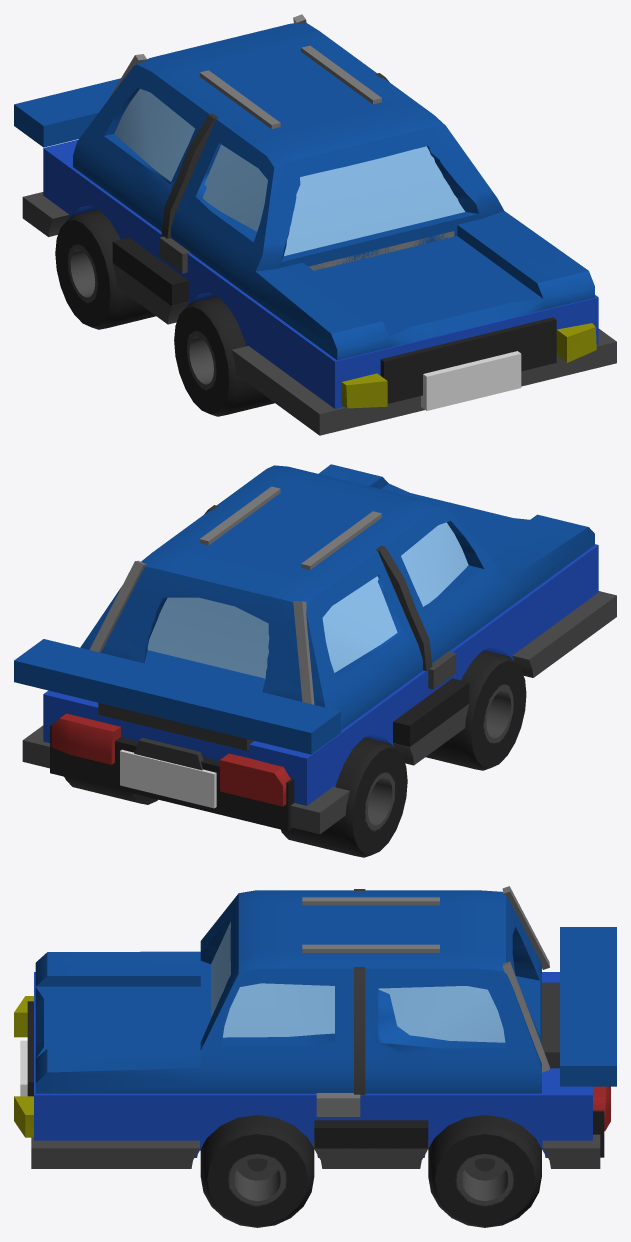
File: car2.obj
3 views of the same model, one above another, from view 1: azimuth 30°, elevation 25°; view 2: azimuth 150°, elevation 25°; view 3: azimuth 270°, elevation 25° (orthographic). The views are drawn at different scales.
Visible parts, largest first — view 1: group1 polySurface9, group1 pCube21, group1 polySurface1, group1 polySurface3, group1 pCube25, group1 pPipe5, group1 pPipe7, group1 pCube22, group1 pCube8, group1 pCube13, group1 pCube29, group1 pCube41 (+7 smaller); view 2: group1 polySurface9, group1 polySurface1, group1 pCube22, group1 pCube21, group1 polySurface3, group1 pPipe7, group1 pPipe5, group1 pCube38, group1 pCube33, group1 pCube42, group1 pCube13, group1 pCube39 (+11 smaller); view 3: group1 polySurface9, group1 polySurface1, group1 pCube21, group1 pCube22, group1 polySurface3, group1 pPipe1, pPipe3 group1, group1 pCube13, group1 pPipe2, group1 pPipe4, group1 pCube29, group1 pCube18 (+11 smaller).
Part boxes in pixels (left/top/right/bottom): group1 polySurface9: left=73, top=22, right=594, bottom=360; group1 pCube21: left=114, top=89, right=465, bottom=255; group1 polySurface1: left=43, top=139, right=598, bottom=408; group1 polySurface3: left=22, top=192, right=616, bottom=435; group1 pCube25: left=380, top=317, right=556, bottom=403; group1 pPipe5: left=174, top=296, right=274, bottom=416; group1 pPipe7: left=55, top=209, right=155, bottom=329; group1 pCube22: left=14, top=78, right=120, bottom=147; group1 pCube8: left=421, top=351, right=521, bottom=410; group1 pCube13: left=112, top=237, right=188, bottom=305; group1 pCube29: left=161, top=73, right=389, bottom=238; group1 pCube41: left=341, top=373, right=387, bottom=408; group1 polySurface9: left=80, top=464, right=594, bottom=730; group1 polySurface1: left=43, top=544, right=598, bottom=805; group1 pCube22: left=14, top=639, right=340, bottom=754; group1 pCube21: left=147, top=522, right=468, bottom=678; group1 polySurface3: left=22, top=591, right=616, bottom=834; group1 pPipe7: left=281, top=737, right=407, bottom=857; group1 pPipe5: left=425, top=650, right=526, bottom=770; group1 pCube38: left=50, top=721, right=294, bottom=831; group1 pCube33: left=120, top=749, right=216, bottom=808; group1 pCube42: left=220, top=753, right=290, bottom=806; group1 pCube13: left=393, top=678, right=469, bottom=746; group1 pCube39: left=51, top=713, right=120, bottom=764; group1 polySurface9: left=35, top=890, right=541, bottom=1093; group1 polySurface1: left=34, top=972, right=592, bottom=1157; group1 pCube21: left=211, top=921, right=505, bottom=1042; group1 pCube22: left=560, top=927, right=616, bottom=1086; group1 polySurface3: left=31, top=1134, right=600, bottom=1168; group1 pPipe1: left=200, top=1115, right=314, bottom=1227; pPipe3 group1: left=428, top=1115, right=541, bottom=1227; group1 pCube13: left=314, top=1120, right=428, bottom=1148; group1 pPipe2: left=228, top=1154, right=286, bottom=1206; group1 pPipe4: left=455, top=1154, right=513, bottom=1206; group1 pCube29: left=354, top=889, right=365, bottom=1094; group1 pCube18: left=542, top=982, right=559, bottom=1068.
Size of the model in its own units: 2.89 by 2.32 by 5.3.
